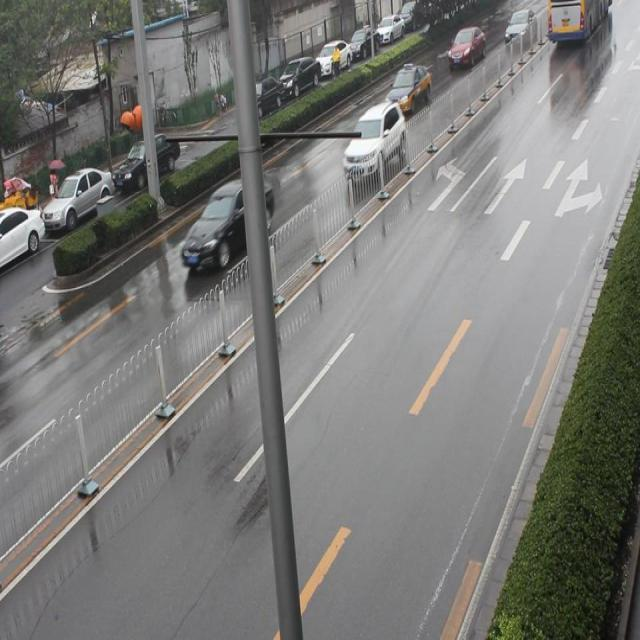car: (178, 176, 281, 272), (344, 104, 408, 184), (383, 58, 434, 115), (449, 25, 487, 72)
